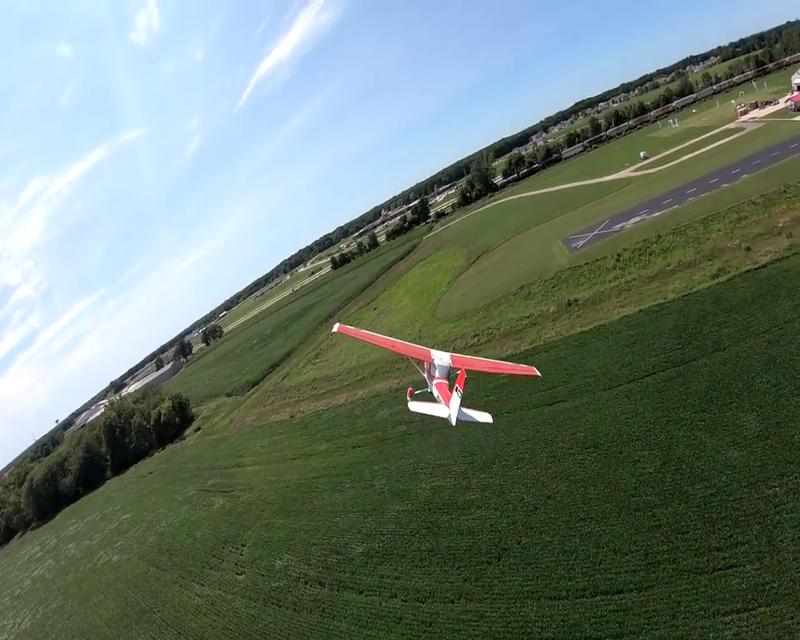UAV: (333, 320, 542, 424)
